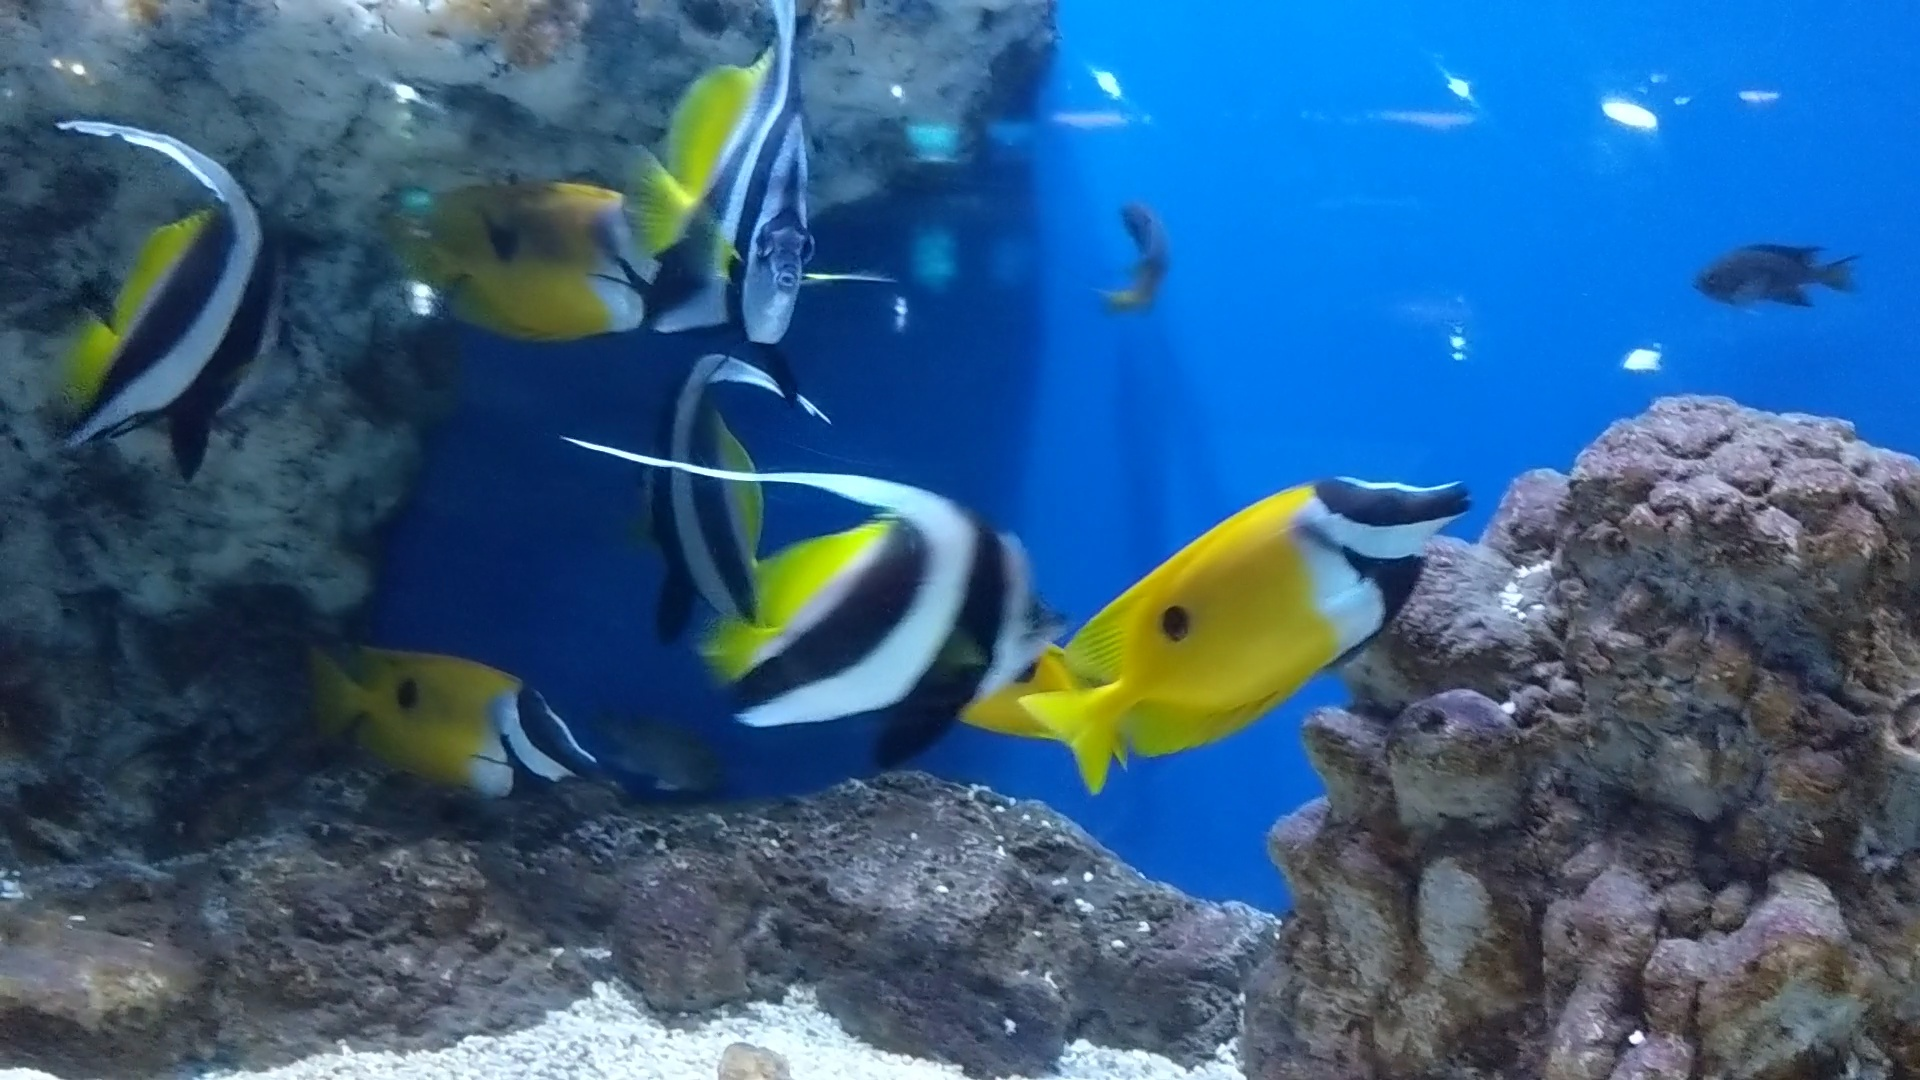butterflyfish: (355, 162, 657, 344)
moorfish: (591, 425, 1048, 793), (42, 88, 289, 476), (615, 18, 827, 320), (630, 356, 804, 638)
rabbitfish: (1033, 483, 1485, 800), (363, 170, 661, 359), (293, 638, 595, 816)
